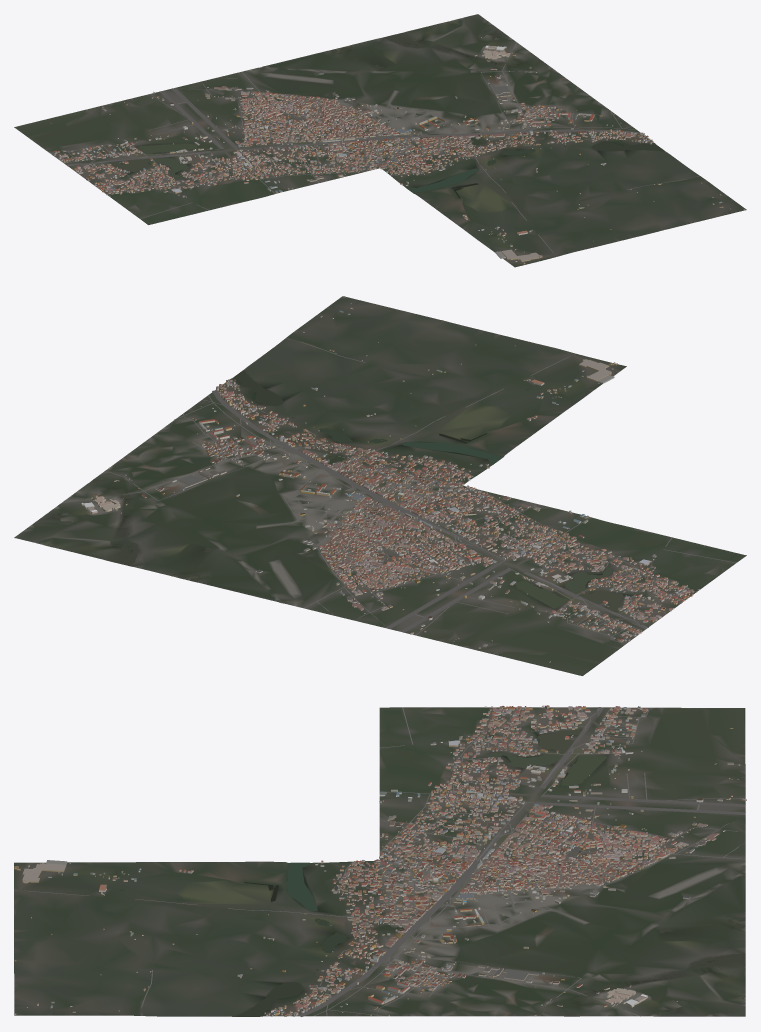
3 renders of one model, top to bottom at view 1: azimuth 30°, elevation 25°; view 2: azimuth 150°, elevation 25°; view 3: azimuth 270°, elevation 25°, orthographic. The views are drawn at different scales.
Visible parts, largest first — view 1: ground, buildings, roads, water; view 2: ground, buildings, roads, water; view 3: ground, buildings, roads, water.
Part boxes in pixels (box(x1,y1,x2,y2)): ground: box(14, 14, 746, 267); buildings: box(50, 37, 745, 264); roads: box(51, 42, 699, 256); water: box(107, 21, 664, 229); ground: box(14, 296, 746, 675); buildings: box(71, 296, 699, 662); roads: box(61, 338, 736, 643); water: box(48, 370, 623, 611); ground: box(14, 707, 745, 1016); buildings: box(14, 705, 746, 1016); roads: box(14, 707, 745, 1016); water: box(119, 729, 745, 1016).
Size of the model in its own units: 2812 by 23.17 by 2809.
